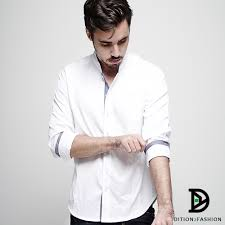C_shirt: (47, 51, 172, 224)
